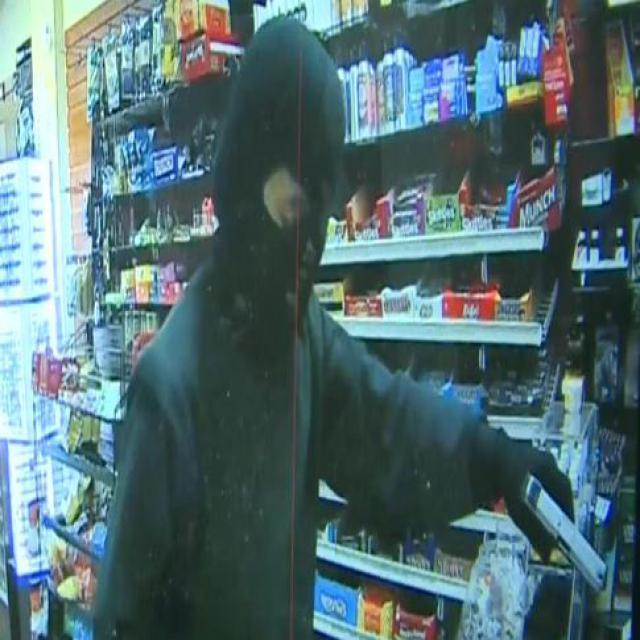gun: (510, 442, 610, 594)
